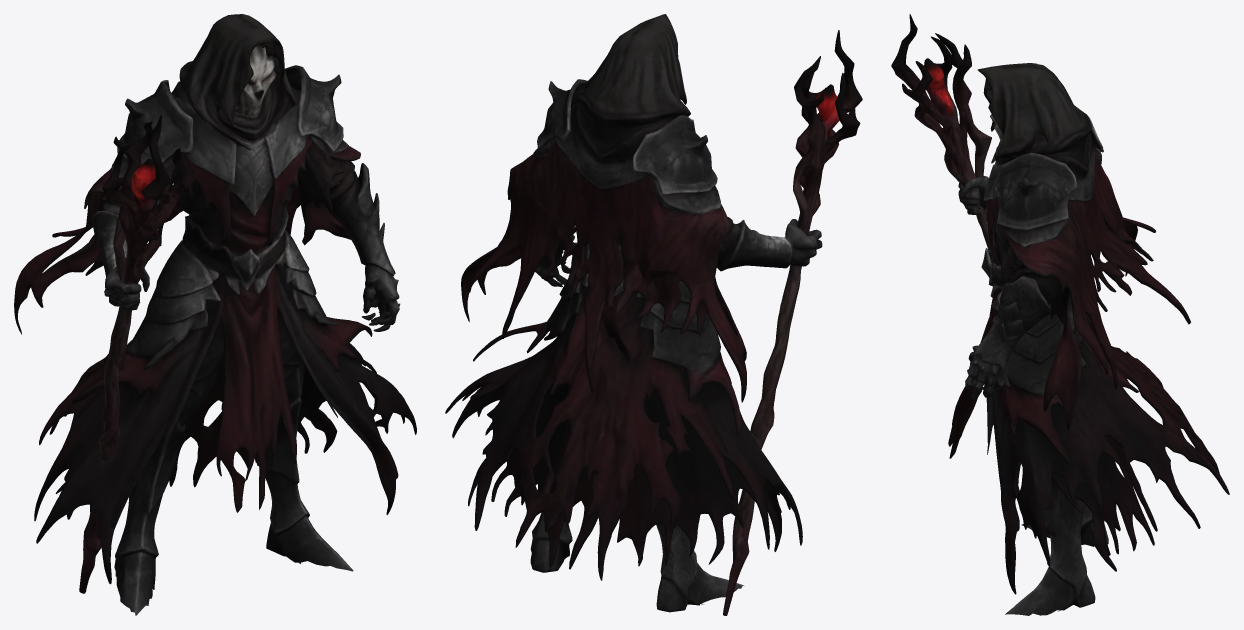
Rendered from patient_zero.glb.
3 renders of one model, left to right at view 1: azimuth 30°, elevation 25°; view 2: azimuth 150°, elevation 25°; view 3: azimuth 270°, elevation 25°, orthographic. The views are drawn at different scales.
Parts seen in each view (by area): view 1: world; view 2: world; view 3: world.
Boxes of the visible parts, bbox=[...] form: world: bbox=[14, 14, 416, 615]; world: bbox=[445, 14, 862, 615]; world: bbox=[891, 14, 1229, 615].
Size of the model in its own units: 0.6857 by 0.9914 by 0.6009.
1 material, 1 textured.
